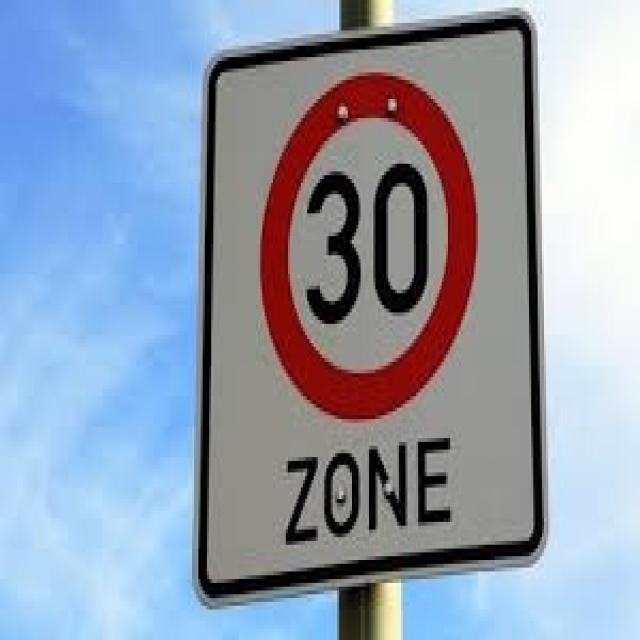speed_limit_30: (256, 63, 500, 425)
